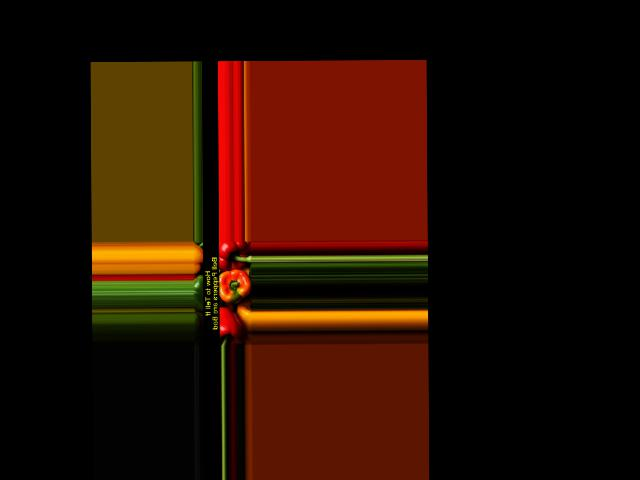bell_pepper: (216, 242, 251, 272)
